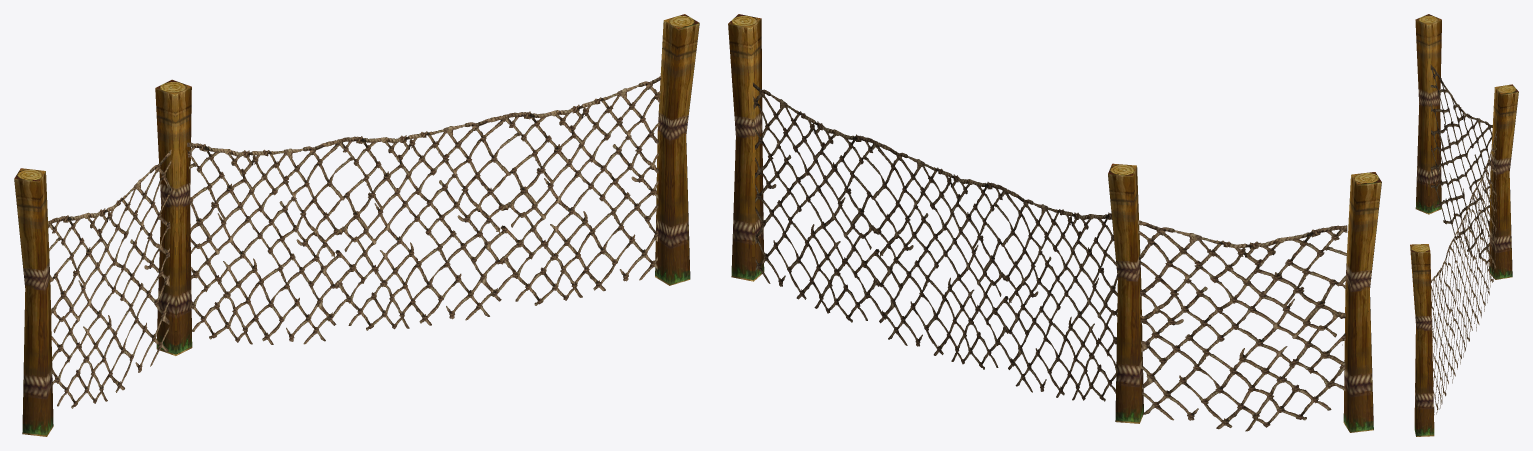
The model's file is environment_common_zhongyaojia_001_f.FBX.
The picture shows the model from 3 angles, left to right: view 1: azimuth 30°, elevation 25°; view 2: azimuth 150°, elevation 25°; view 3: azimuth 270°, elevation 25°; orthographic projection. The views are drawn at different scales.
Visible parts, largest first — view 1: environment_common_zhongyaojia_001_f1, environment_common_zhongyaojia_001_f2; view 2: environment_common_zhongyaojia_001_f1, environment_common_zhongyaojia_001_f2; view 3: environment_common_zhongyaojia_001_f2, environment_common_zhongyaojia_001_f1.
Part boxes in pixels (x1,y1,x2,y2): environment_common_zhongyaojia_001_f1: (48, 76, 661, 408); environment_common_zhongyaojia_001_f2: (14, 14, 699, 436); environment_common_zhongyaojia_001_f1: (753, 82, 1347, 431); environment_common_zhongyaojia_001_f2: (728, 14, 1381, 432); environment_common_zhongyaojia_001_f2: (1410, 14, 1518, 436); environment_common_zhongyaojia_001_f1: (1430, 64, 1496, 414).
Bounding box in the file's own units: 525 × 101 × 205.
